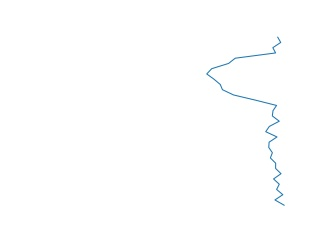distalBar: (203, 37, 291, 207)
